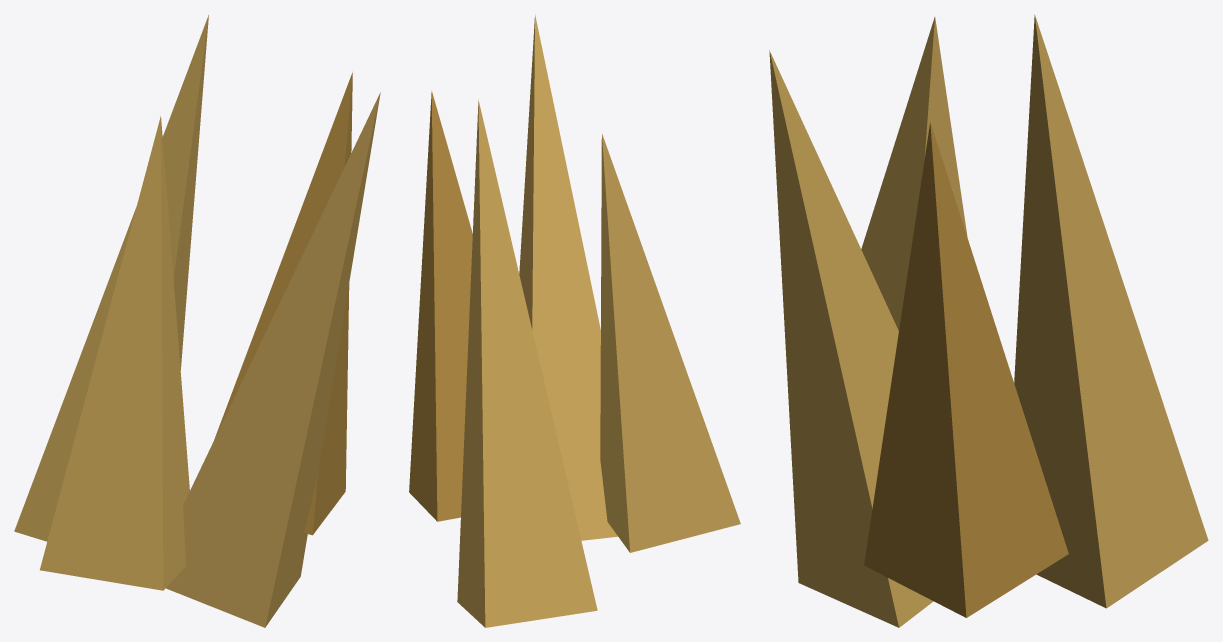
The model's file is gold_tuft.glb.
3 renders of one model, left to right at view 1: azimuth 30°, elevation 25°; view 2: azimuth 150°, elevation 25°; view 3: azimuth 270°, elevation 25°, orthographic. The views are drawn at different scales.
Visible parts, largest first — view 1: golden blade.003, golden blade.002, golden blade.001, golden blade; view 2: golden blade.001, golden blade.002, golden blade.003, golden blade; view 3: golden blade.001, golden blade, golden blade.003, golden blade.002.
Boxes of the visible parts, box(x1,y1,x2,y2) form: golden blade.003: box(166, 92, 380, 627); golden blade.002: box(40, 116, 189, 590); golden blade.001: box(14, 15, 208, 541); golden blade: box(214, 72, 352, 535); golden blade.001: box(457, 99, 597, 627); golden blade.002: box(600, 134, 740, 552); golden blade.003: box(519, 14, 617, 540); golden blade: box(409, 91, 472, 521); golden blade.001: box(1014, 14, 1208, 608); golden blade: box(864, 122, 1068, 617); golden blade.003: box(769, 50, 933, 627); golden blade.002: box(861, 17, 967, 330).
Size of the model in its own units: 0.107 by 0.161 by 0.1069.
